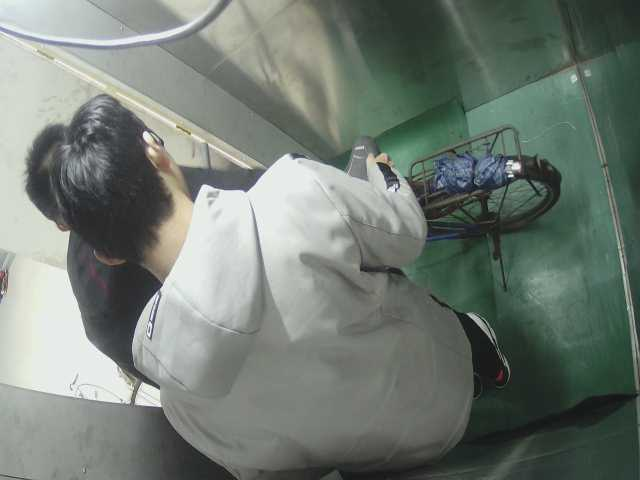bicycle: (331, 115, 569, 288)
person: (54, 99, 512, 478)
